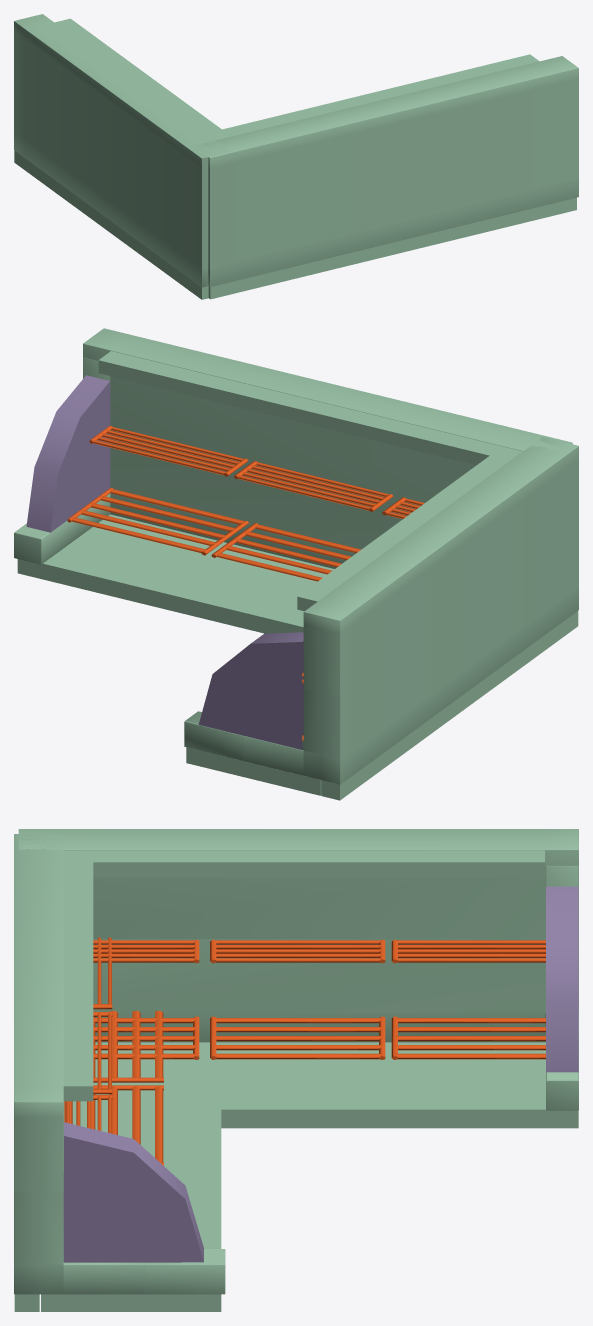
Rendered from Frezer2.fbx.
The picture shows the model from 3 angles, top to bottom: view 1: azimuth 30°, elevation 25°; view 2: azimuth 150°, elevation 25°; view 3: azimuth 270°, elevation 25°; orthographic projection. The views are drawn at different scales.
Visible parts, largest first — view 1: Cylinder001; view 2: Cylinder001, Object002, Box007; view 3: Cylinder001, Box007, Object002.
Boxes of the visible parts, x1,y1,x2,y2 form: Cylinder001: [14, 14, 578, 299]; Cylinder001: [14, 328, 578, 800]; Object002: [26, 375, 303, 749]; Box007: [67, 426, 424, 740]; Cylinder001: [14, 829, 578, 1311]; Box007: [64, 937, 545, 1165]; Object002: [63, 886, 578, 1262].
Size of the model in its own units: 33.12 by 11.94 by 28.95.
